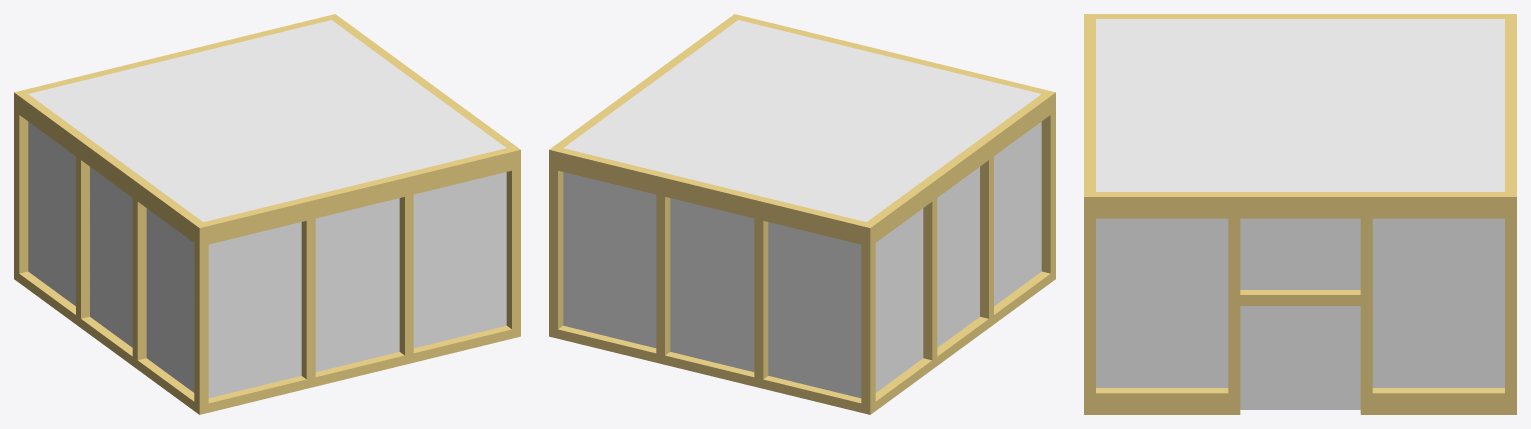
Rendered from building_bottom.obj.
3 views of the same model, side by side, from view 1: azimuth 30°, elevation 25°; view 2: azimuth 150°, elevation 25°; view 3: azimuth 270°, elevation 25° (orthographic). The views are drawn at different scales.
Size of the model in its own units: 3.6 by 2 by 3.6.
1 material, 1 textured.
